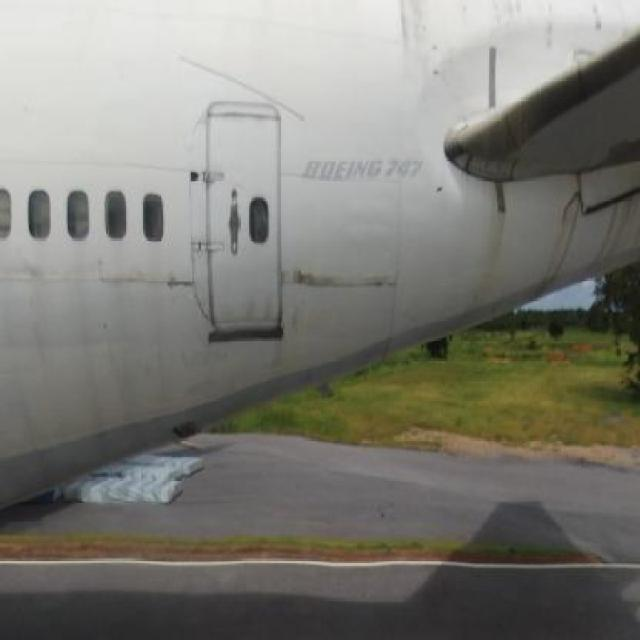Rust: (390, 0, 610, 65), (540, 173, 640, 287), (470, 174, 521, 334), (279, 239, 347, 318), (356, 255, 412, 313), (208, 102, 283, 142), (162, 258, 210, 312), (223, 286, 274, 331)
Scartch: (183, 344, 288, 384), (23, 248, 59, 360)
